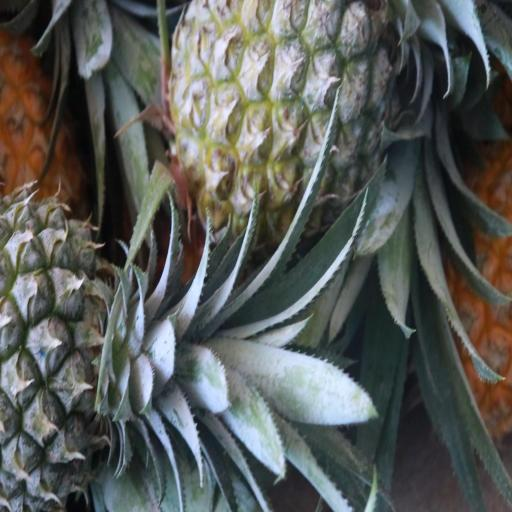------------------------------: (171, 0, 403, 247)
